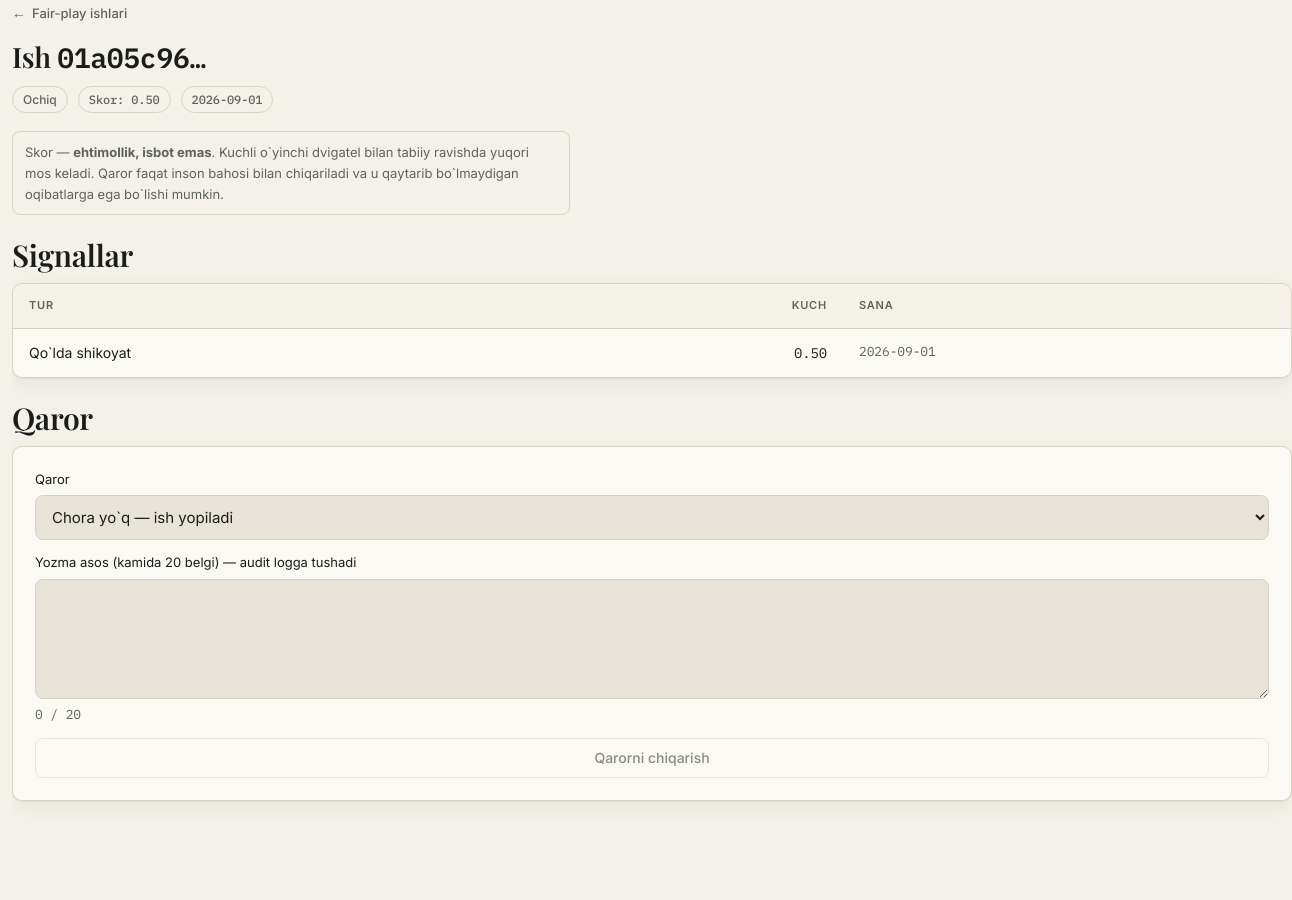
Test: fair-play qaror formasi › yetarli asos yozilsa tugma ochiladi
This screenshot has width=1292, height=900.
Expected: the heading "Qaror" is shown, [12,398,93,438]
Type "Signallar kuchsiz, ish yopiladi. Qo`shimcha dalil topilmadi." into the text box at (652,639), box [35,579,1269,699]
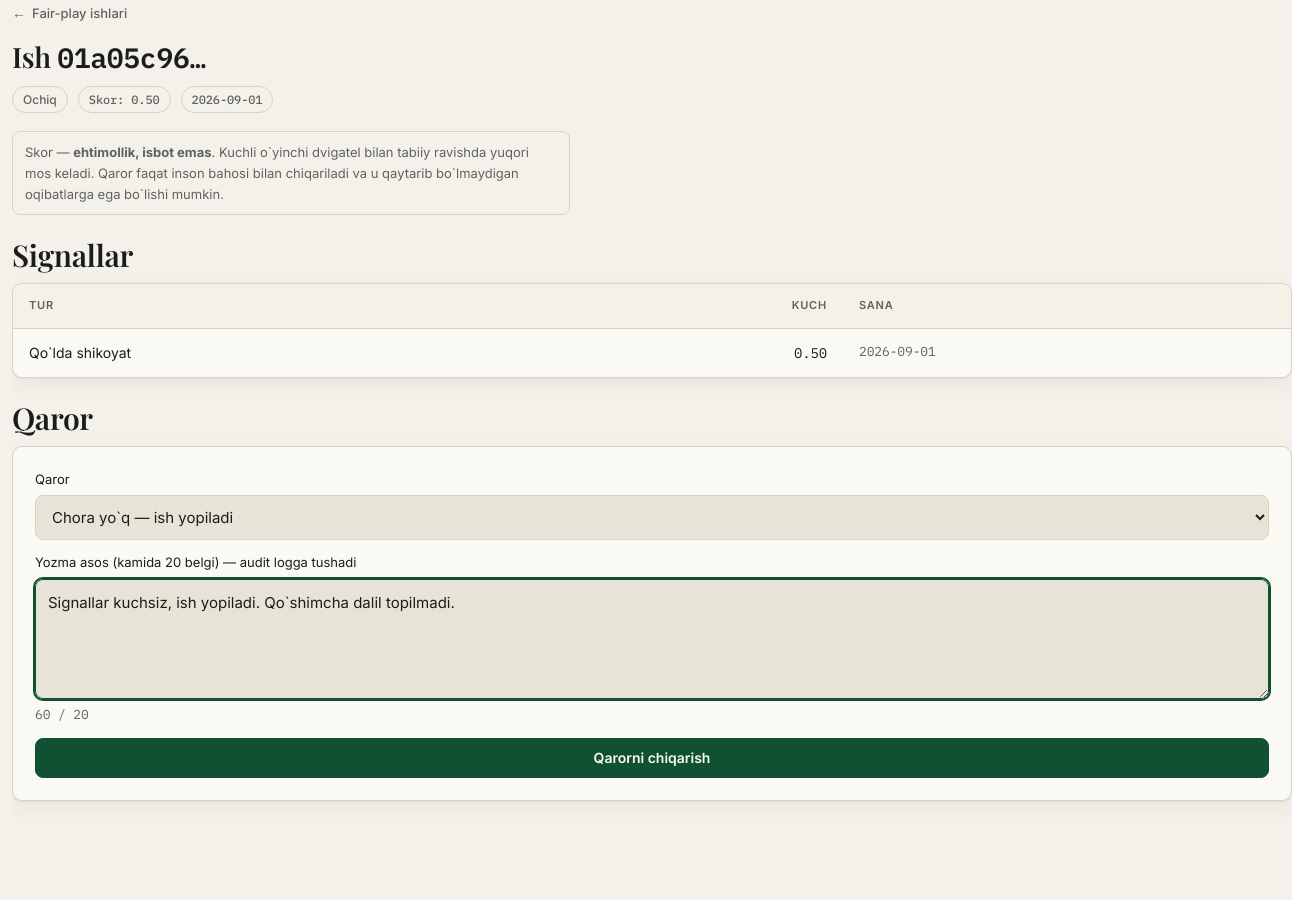
Result: the button "Qarorni chiqarish" is enabled at [35,738,1269,778]
